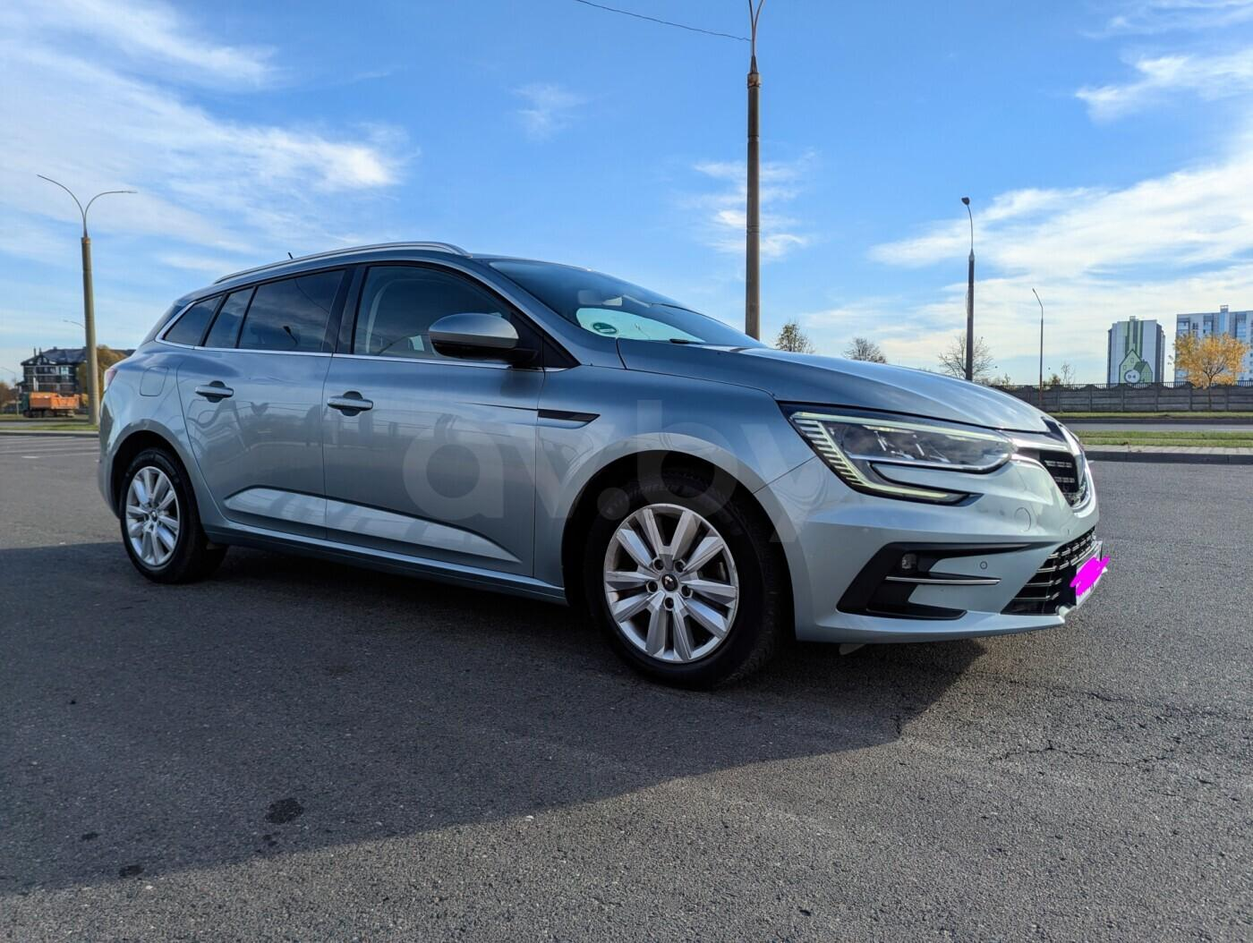Megane_2020: (89, 239, 1107, 688)
